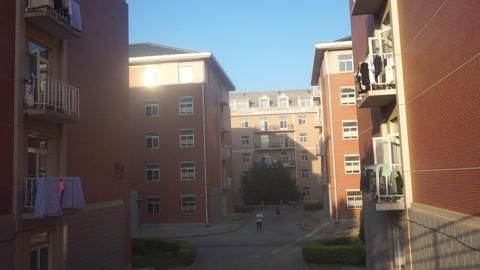UAV: (224, 145, 235, 149)
